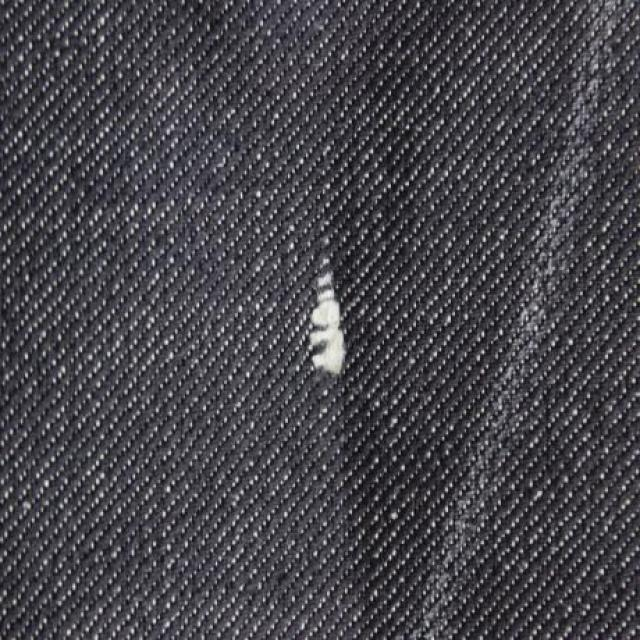stains: (255, 202, 383, 418)
